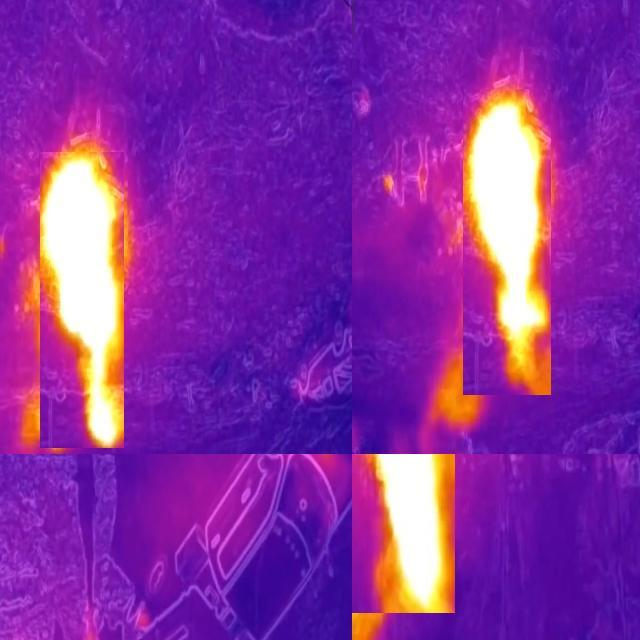fire: (464, 90, 552, 396), (41, 153, 125, 449), (353, 455, 456, 614)
